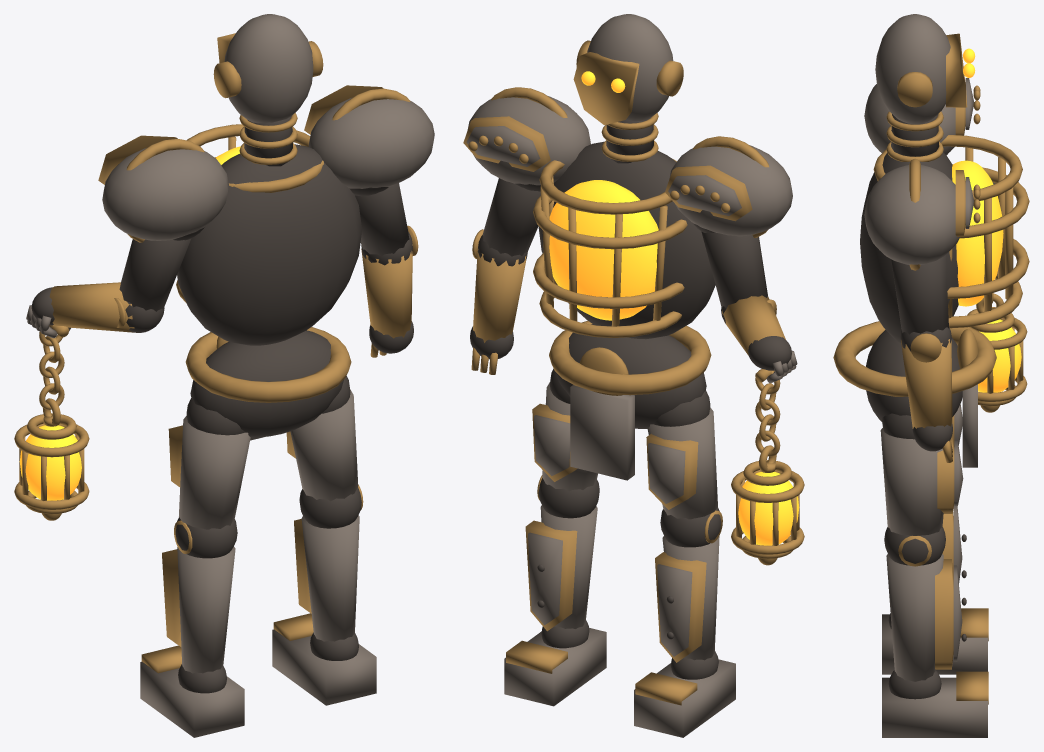
Rendered from lantern-bailiff-base.glb.
3 renders of one model, left to right at view 1: azimuth 30°, elevation 25°; view 2: azimuth 150°, elevation 25°; view 3: azimuth 270°, elevation 25°, orthographic. The views are drawn at different scales.
Parts seen in each view (by area): view 1: torso-frame, arm-left-pauldron, arm-right-pauldron, hip-pelvis, head-helmet, leg-left-thigh, leg-left-shin, leg-right-shin, leg-right-thigh, hip-belt, leg-left-foot, leg-right-foot (+27 smaller); view 2: torso-frame, torso-lantern-core, arm-left-pauldron, hip-front-apron, hip-pelvis, arm-right-pauldron, hip-belt, head-helmet, leg-right-foot, leg-left-foot, arm-left-upper, arm-right-forearm (+46 smaller); view 3: arm-right-pauldron, head-helmet, leg-right-shin, leg-right-thigh, leg-right-foot, hip-belt, torso-frame, arm-right-upper, arm-right-forearm, torso-lantern-core, hip-pelvis, leg-right-shin-guard (+38 smaller).
Boxes of the visible parts, left/top/right/bottom form: torso-frame: left=177, top=144, right=361, bottom=345; arm-left-pauldron: left=102, top=148, right=228, bottom=240; arm-right-pauldron: left=308, top=97, right=434, bottom=188; hip-pelvis: left=190, top=330, right=343, bottom=437; head-helmet: left=224, top=14, right=313, bottom=123; leg-left-thigh: left=179, top=415, right=250, bottom=529; leg-left-shin: left=177, top=546, right=235, bottom=673; leg-right-shin: left=301, top=515, right=359, bottom=641; leg-right-thigh: left=290, top=389, right=358, bottom=501; hip-belt: left=185, top=327, right=351, bottom=402; leg-left-foot: left=140, top=661, right=244, bottom=737; leg-right-foot: left=272, top=629, right=376, bottom=705; torso-frame: left=538, top=141, right=715, bottom=339; torso-lantern-core: left=549, top=180, right=658, bottom=320; arm-left-pauldron: left=669, top=145, right=792, bottom=236; hip-front-apron: left=570, top=385, right=634, bottom=480; hip-pelvis: left=556, top=324, right=706, bottom=428; arm-right-pauldron: left=467, top=96, right=590, bottom=185; hip-belt: left=549, top=320, right=711, bottom=395; head-helmet: left=587, top=14, right=673, bottom=121; leg-right-foot: left=504, top=627, right=606, bottom=706; leg-left-foot: left=634, top=659, right=735, bottom=737; arm-left-upper: left=701, top=231, right=767, bottom=308; arm-right-forearm: left=473, top=248, right=526, bottom=342; arm-right-pauldron: left=864, top=165, right=959, bottom=264; head-helmet: left=875, top=14, right=950, bottom=124; leg-right-shin: left=886, top=554, right=943, bottom=681; leg-right-thigh: left=880, top=428, right=943, bottom=535; leg-right-foot: left=882, top=677, right=987, bottom=737; hip-belt: left=833, top=321, right=996, bottom=396; torso-frame: left=860, top=152, right=958, bottom=342; arm-right-upper: left=891, top=255, right=948, bottom=334; arm-right-forearm: left=901, top=339, right=952, bottom=428; torso-lantern-core: left=952, top=160, right=1003, bottom=306; hip-pelvis: left=866, top=330, right=962, bottom=421; leg-right-shin-guard: left=935, top=559, right=953, bottom=669.
Bounding box in the file's own units: 0.959 × 1.69 × 0.444.
